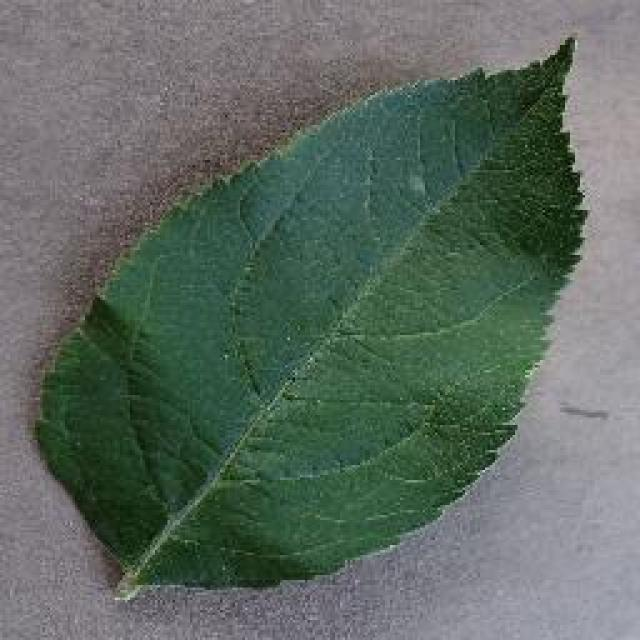apple healthy: (32, 30, 590, 602)
